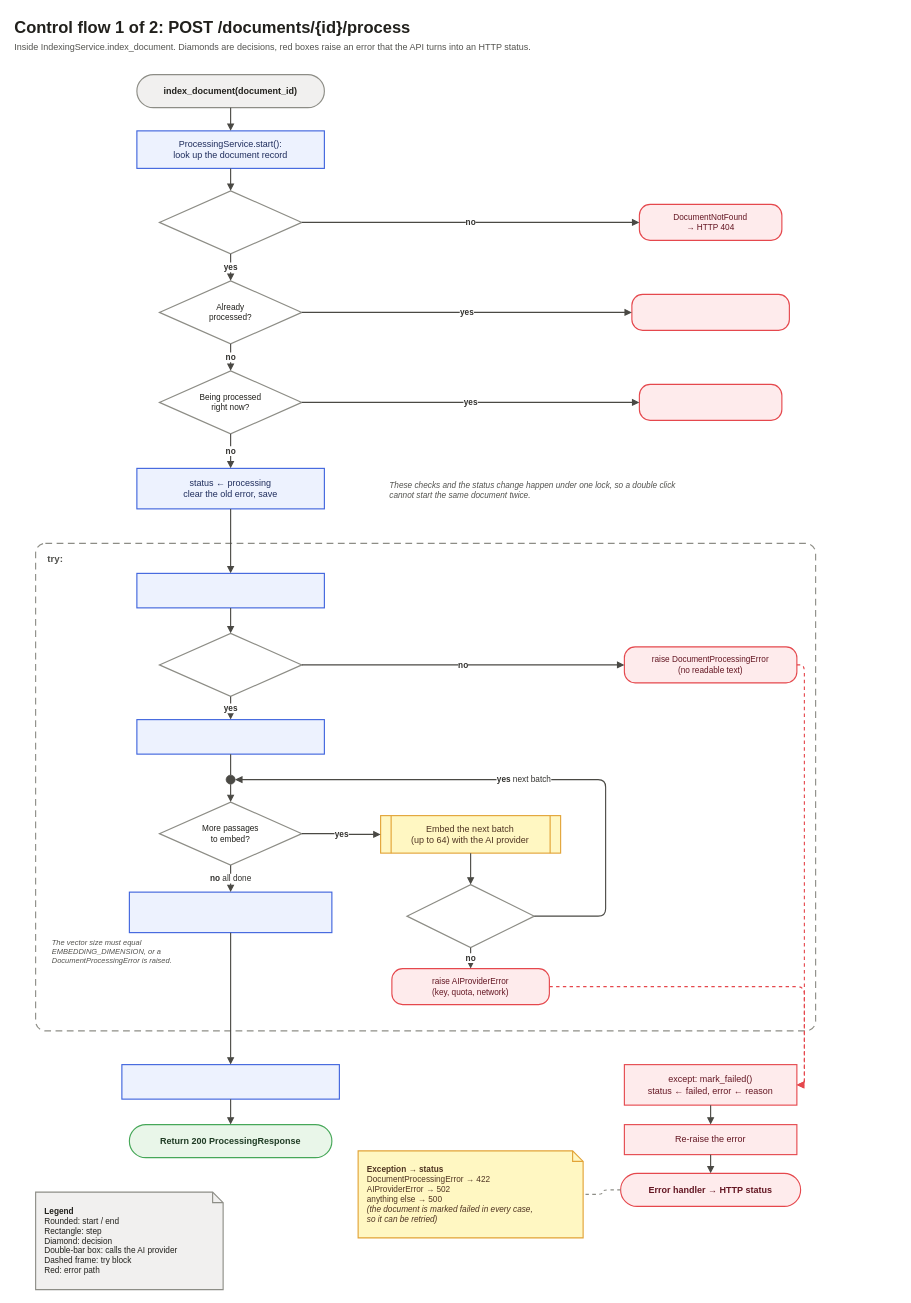
Image size: 911x1303. Some labels were removed from this diagram. Each missing label, with the centre of its shape:
"Add the vectors to FAISS and write the .faiss and .pkl files" goes at (x=230, y=912).
"Any readable text?" goes at (x=230, y=664).
"Cut into passages (500 words, 100 overlap)" goes at (x=230, y=736).
"DocumentAlreadyProcessed → HTTP 409" goes at (x=710, y=312).
"DocumentBusy → HTTP 409" goes at (x=710, y=402).
"Extract the text (PyMuPDF, per page)" goes at (x=230, y=590).
"Provider answered?" goes at (x=470, y=916).
"Record exists?" goes at (x=230, y=222).
"status ← processed, pages ← n, save" goes at (x=230, y=1081).
